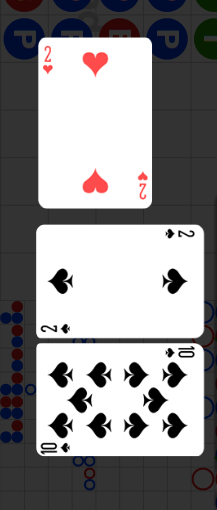10S: (40, 441, 73, 455)
2H: (43, 45, 55, 76)
2S: (40, 322, 73, 335)
